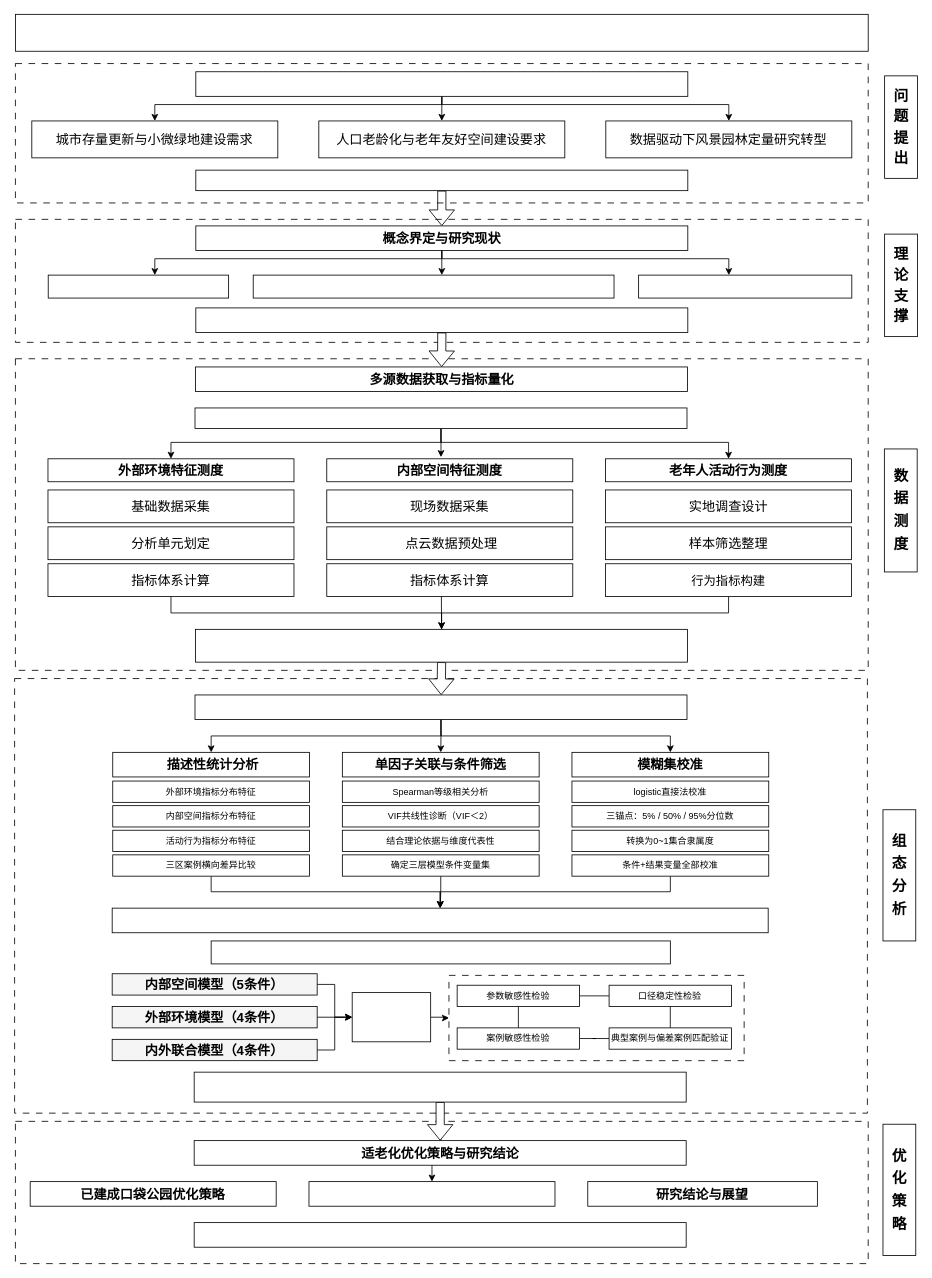
Some shapes in this 932 by 1278 pixel diagram are drawn without their labels. The shapes that lost their labels are listed below. From the top down, each one's box as (x1, y1, x2, y2) in pixels, then its label:
(15, 14, 868, 51): 基于多源数据的口袋公园空间组态特征对老年人活动影响研究 —— 以南京市为例
(195, 71, 688, 96): 研究背景与问题提出
(195, 169, 688, 191): 核心问题：口袋公园空间组态特征如何影响老年人活动？
(47, 274, 229, 298): 核心概念界定
(252, 274, 614, 298): 国内外研究现状
(638, 274, 852, 298): 研究述评
(195, 307, 688, 333): 明确研究缺口，确定研究内容、方法与技术路线
(194, 407, 687, 428): 案例筛选：鼓楼/秦淮/玄武三区共37个口袋公园
(195, 629, 688, 662): 构建37个案例公园空间-行为数据库
(194, 694, 687, 720): 特征分析与组态关系解析
(111, 907, 768, 933): 三层fsQCA组态分析
(210, 940, 670, 964): 必要性检验（一致性≥0.9） → 真值表构建（频数≥3） → 充分性分析（中间解+简约解）
(351, 992, 431, 1042): 稳健性检验 与 案例匹配
(193, 1071, 686, 1102): 识别高/低活动水平对应的空间组态路径，明确核心与边缘条件
(308, 1181, 555, 1206): 待建口袋公园选址建议
(193, 1222, 686, 1247): 形成面向老年活动支持的口袋公园空间优化与建设路径
